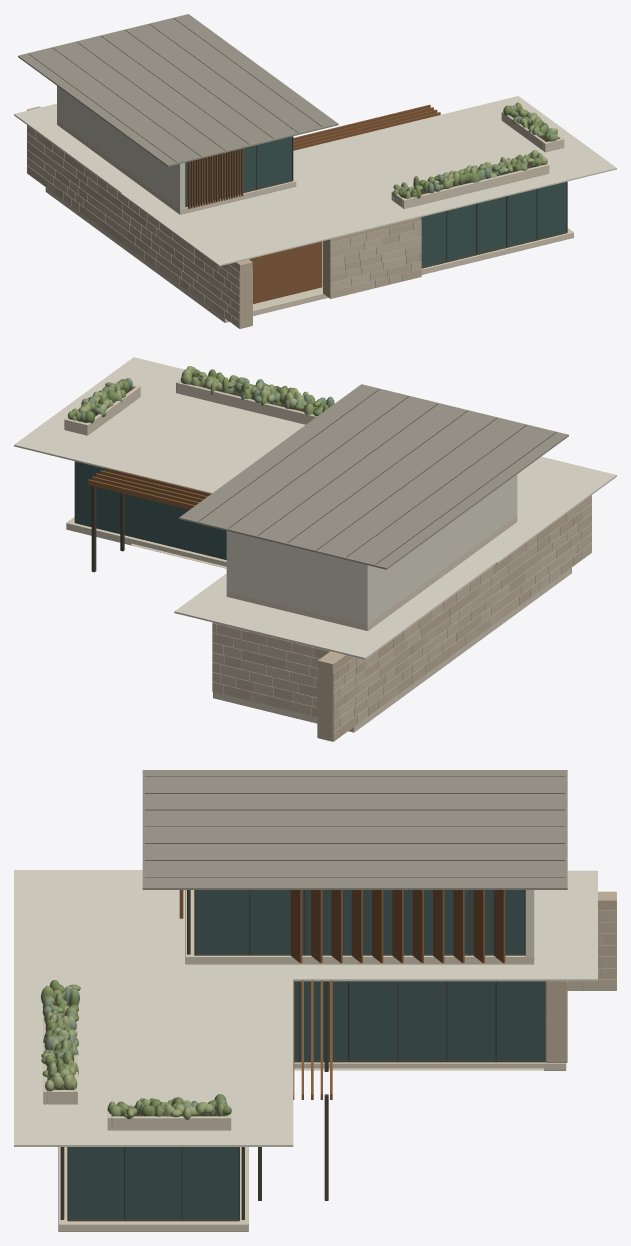
The model's file is casa-3.glb.
The picture shows the model from 3 angles, top to bottom: view 1: azimuth 30°, elevation 25°; view 2: azimuth 150°, elevation 25°; view 3: azimuth 270°, elevation 25°; orthographic projection. The views are drawn at different scales.
Parts seen in each view (by area): view 1: Casa 04 | Arquitectura sin solapes, Casa 04 | Vegetacion integrada; view 2: Casa 04 | Arquitectura sin solapes, Casa 04 | Vegetacion integrada; view 3: Casa 04 | Arquitectura sin solapes, Casa 04 | Vegetacion integrada.
Part boxes in pixels (x1=…): Casa 04 | Arquitectura sin solapes: x1=14, y1=14, x2=616, y2=328; Casa 04 | Vegetacion integrada: x1=391, y1=102, x2=564, y2=208; Casa 04 | Arquitectura sin solapes: x1=14, y1=357, x2=616, y2=741; Casa 04 | Vegetacion integrada: x1=64, y1=366, x2=334, y2=435; Casa 04 | Arquitectura sin solapes: x1=14, y1=770, x2=616, y2=1231; Casa 04 | Vegetacion integrada: x1=41, y1=980, x2=231, y2=1130.
Bounding box in the file's own units: 20.8 × 7.13 × 19.
